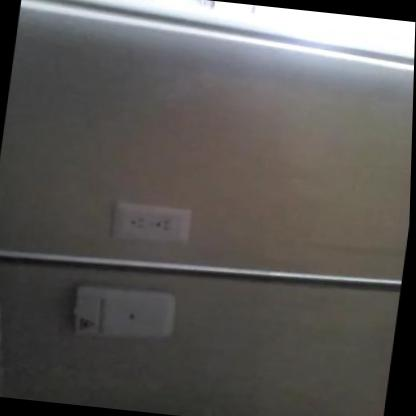OUTLET: (109, 200, 194, 244)
